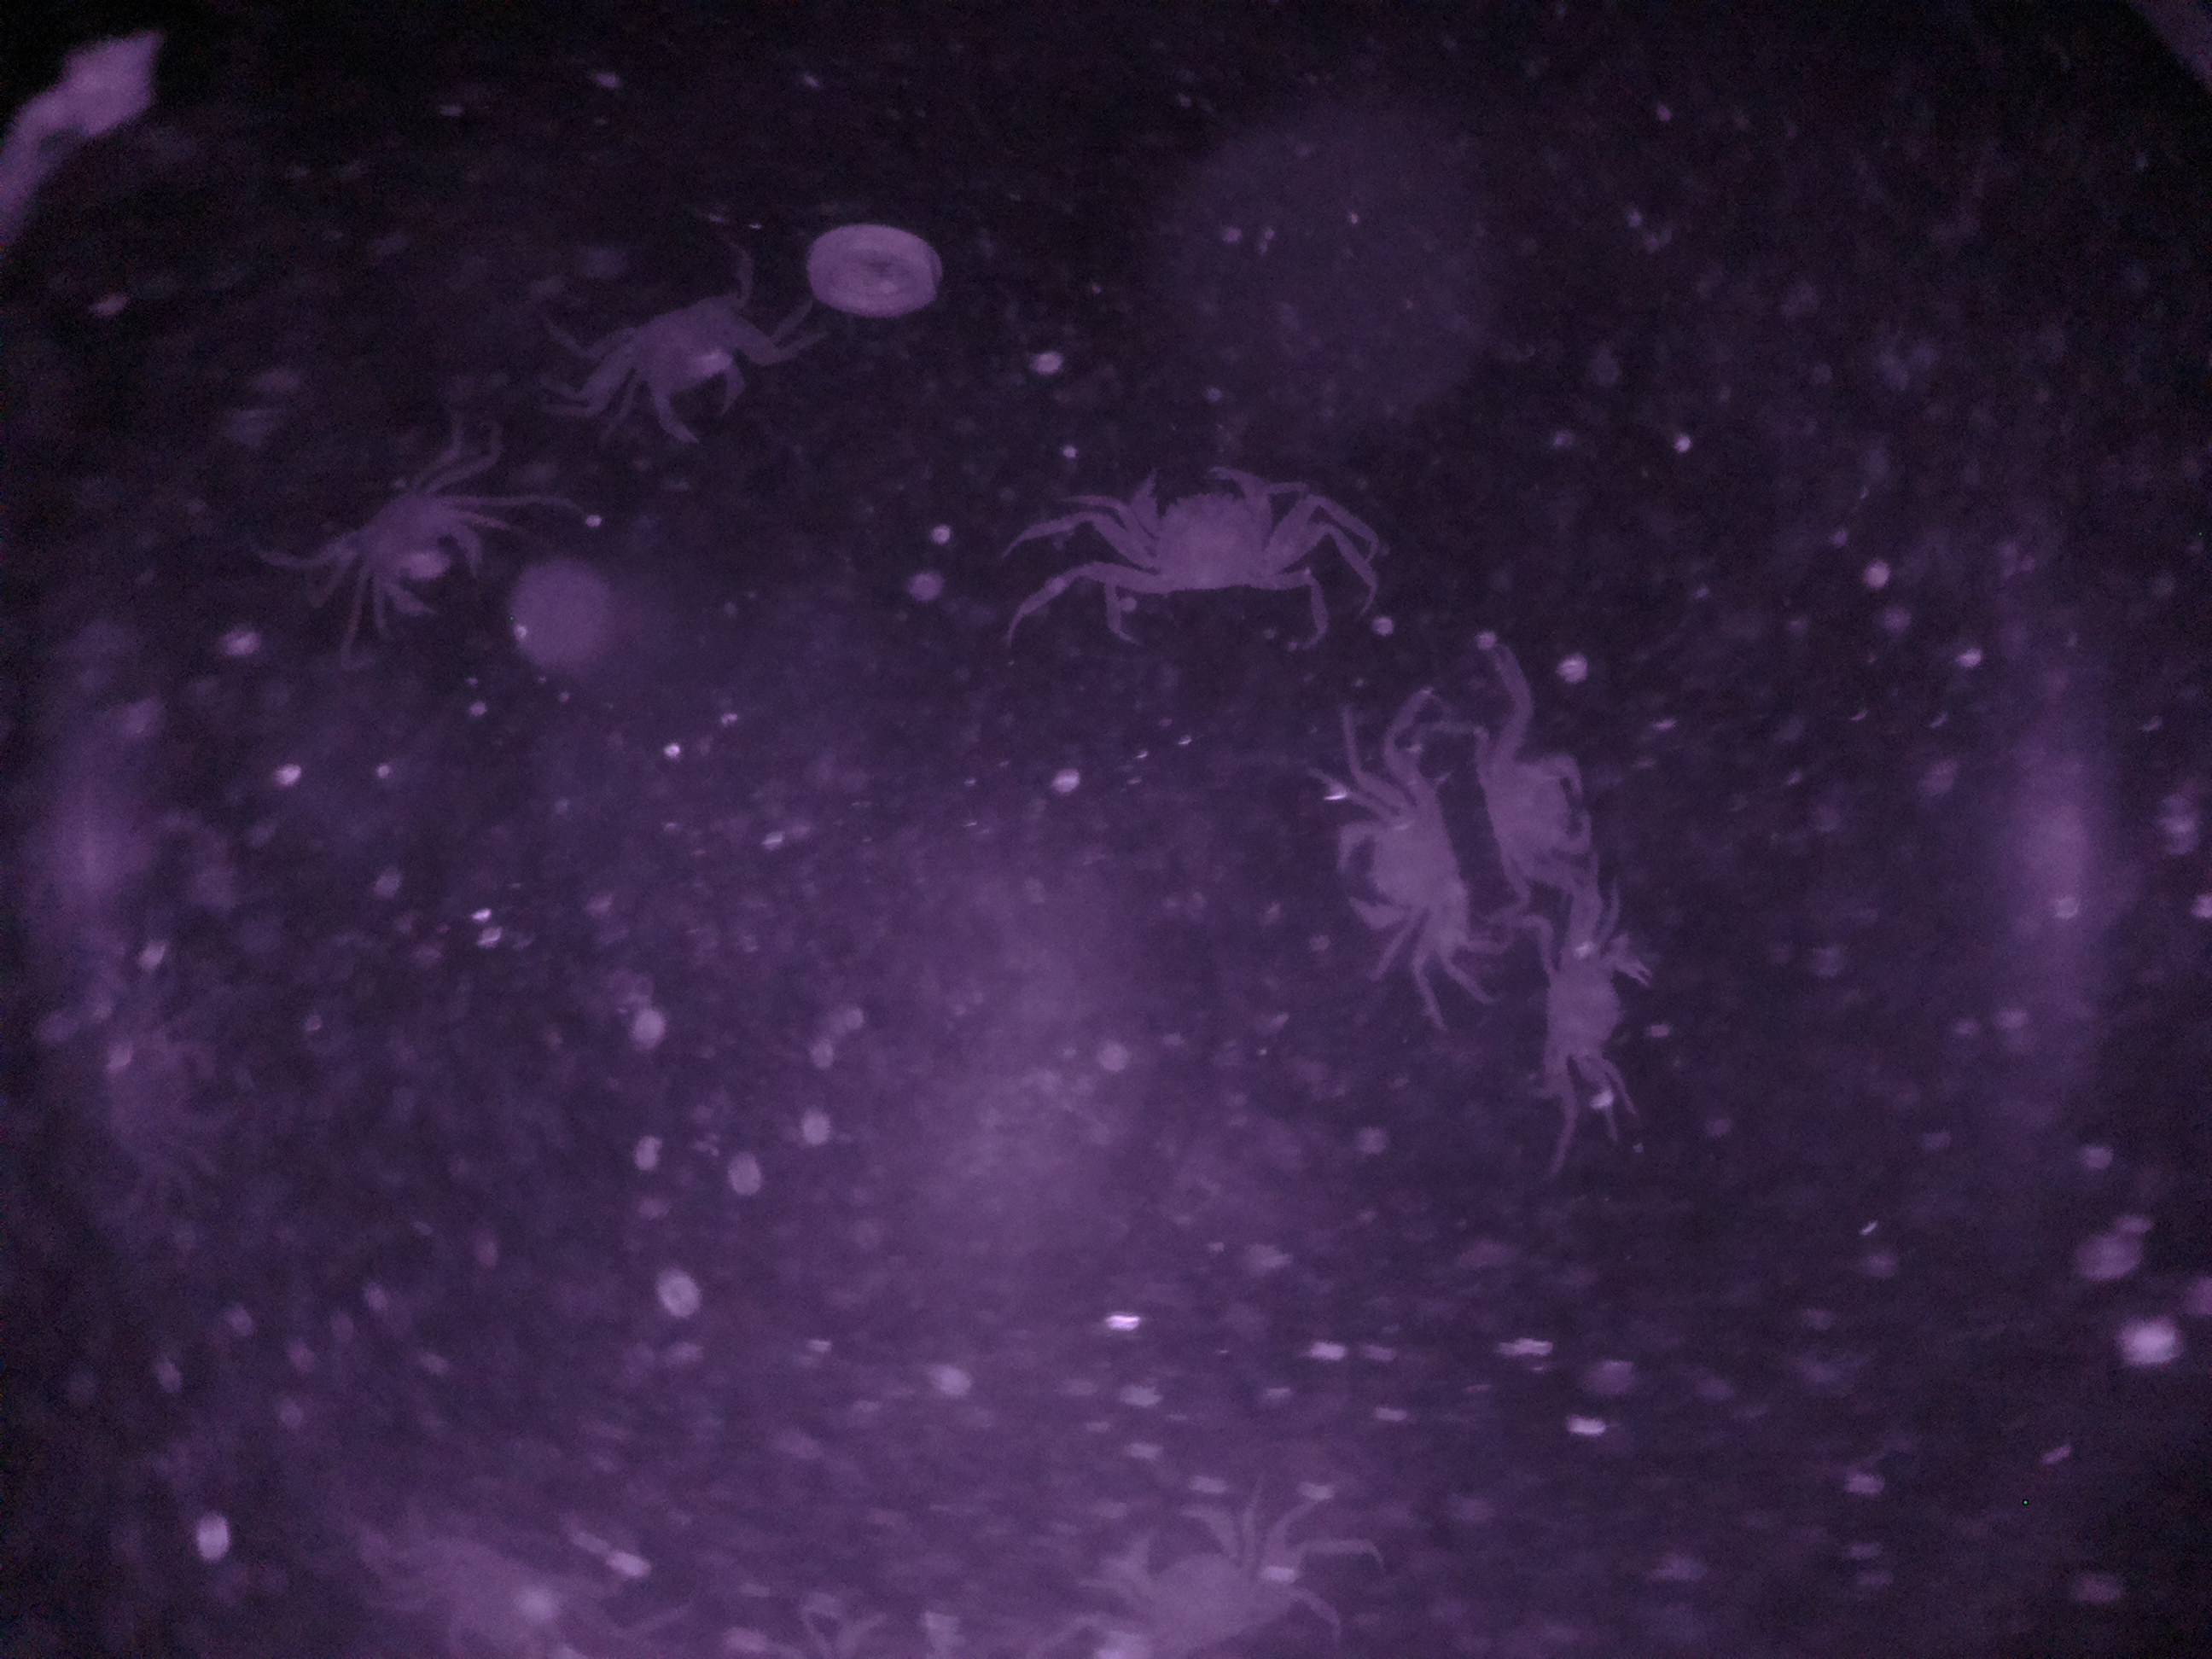Crab: (1069, 460, 1313, 627), (1484, 706, 1641, 911), (1313, 765, 1465, 971), (608, 275, 782, 453), (338, 464, 510, 641), (1505, 932, 1653, 1121)
